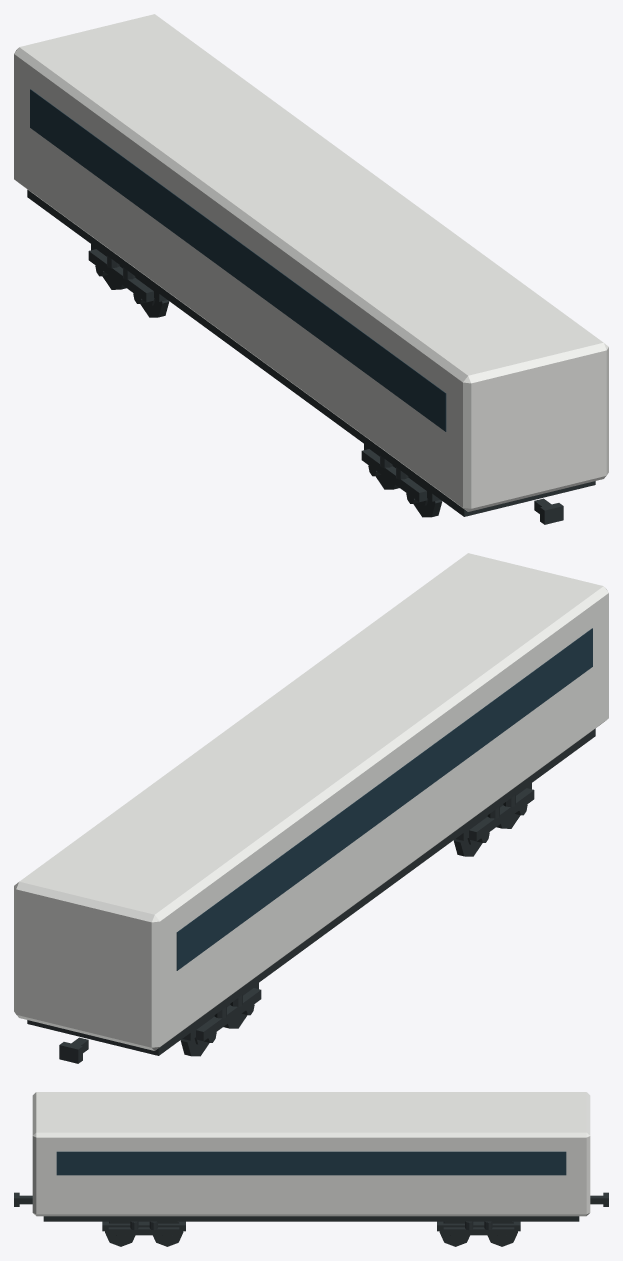
The model's file is subway-car-01.glb.
The picture shows the model from 3 angles, top to bottom: view 1: azimuth 30°, elevation 25°; view 2: azimuth 150°, elevation 25°; view 3: azimuth 270°, elevation 25°; orthographic projection. The views are drawn at different scales.
Parts seen in each view (by area): view 1: WhiteSymmetricBody, SingleDarkWindowBand, SimpleUnderbody, BogieSideFrame, BogieSideFrame.002; view 2: WhiteSymmetricBody, SingleDarkWindowBand, SimpleUnderbody, BogieSideFrame.002, BogieSideFrame; view 3: WhiteSymmetricBody, SingleDarkWindowBand.001, SimpleUnderbody, BogieSideFrame.001, BogieSideFrame.003, BogieBolster, BogieBolster.001, RailWheel.003, RailWheel.005, RailWheel.001, RailWheel.007.
Part boxes in pixels (box(x1,y1,x2,y2)): WhiteSymmetricBody: box(14, 14, 608, 511); SingleDarkWindowBand: box(30, 89, 446, 431); SimpleUnderbody: box(27, 189, 595, 516); BogieSideFrame: box(361, 449, 427, 502); BogieSideFrame.002: box(88, 249, 153, 302); WhiteSymmetricBody: box(14, 553, 608, 1050); SingleDarkWindowBand: box(176, 628, 592, 970); SimpleUnderbody: box(27, 728, 595, 1055); BogieSideFrame.002: box(195, 988, 261, 1041); BogieSideFrame: box(469, 788, 534, 841); WhiteSymmetricBody: box(32, 1092, 590, 1216); SingleDarkWindowBand.001: box(56, 1151, 566, 1175); SimpleUnderbody: box(43, 1216, 579, 1221); BogieSideFrame.001: box(108, 1227, 179, 1235); BogieSideFrame.003: box(443, 1227, 514, 1235); BogieBolster: box(102, 1221, 185, 1231); BogieBolster.001: box(437, 1221, 520, 1231); RailWheel.003: box(153, 1221, 183, 1246); RailWheel.005: box(439, 1221, 469, 1246); RailWheel.001: box(105, 1221, 135, 1246); RailWheel.007: box(487, 1221, 517, 1246).
Size of the model in its own units: 2.8 by 3.6 by 16.
